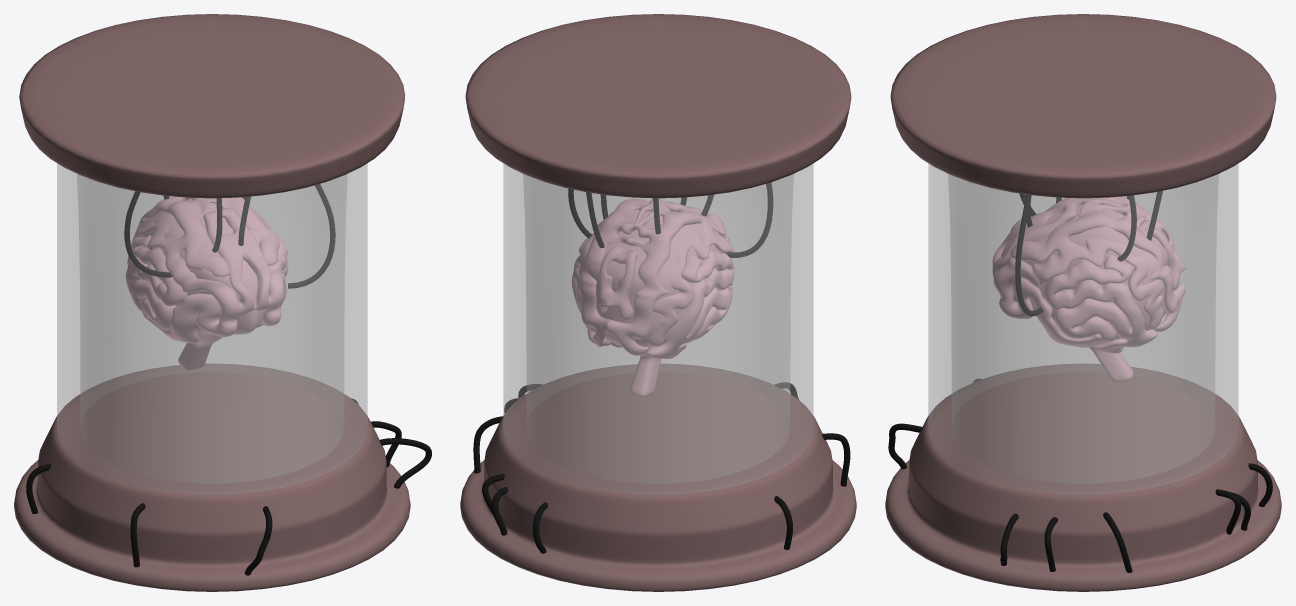
The model's file is beyindd.fbx.
3 renders of one model, left to right at view 1: azimuth 30°, elevation 25°; view 2: azimuth 150°, elevation 25°; view 3: azimuth 270°, elevation 25°, orthographic.
Visible parts, largest first — view 1: Cylinder_Material.001_0; view 2: Cylinder_Material.001_0; view 3: Cylinder_Material.001_0.
Part boxes in pixels (box(x1,y1,x2,y2)): Cylinder_Material.001_0: box(14, 14, 431, 591); Cylinder_Material.001_0: box(460, 14, 856, 591); Cylinder_Material.001_0: box(885, 14, 1281, 591).
Bounding box in the file's own units: 383 × 437 × 375.
